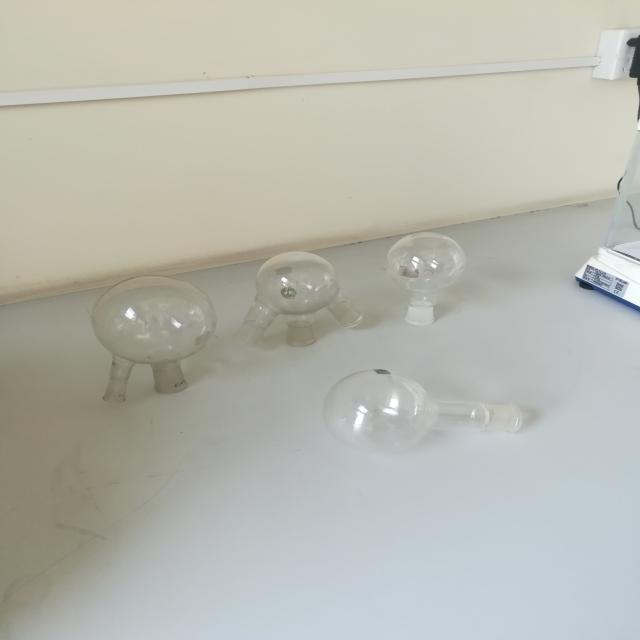Round_Bottom_Flask_Borosilicate_Glass_1_Neck: (302, 348, 556, 468), (381, 208, 478, 350)
Round_Bottom_Flask_Borosilicate_Glass_2_Neck: (67, 262, 229, 413)
Round_Bottom_Flask_Borosilicate_Glass_3_Neck: (231, 238, 373, 360)
